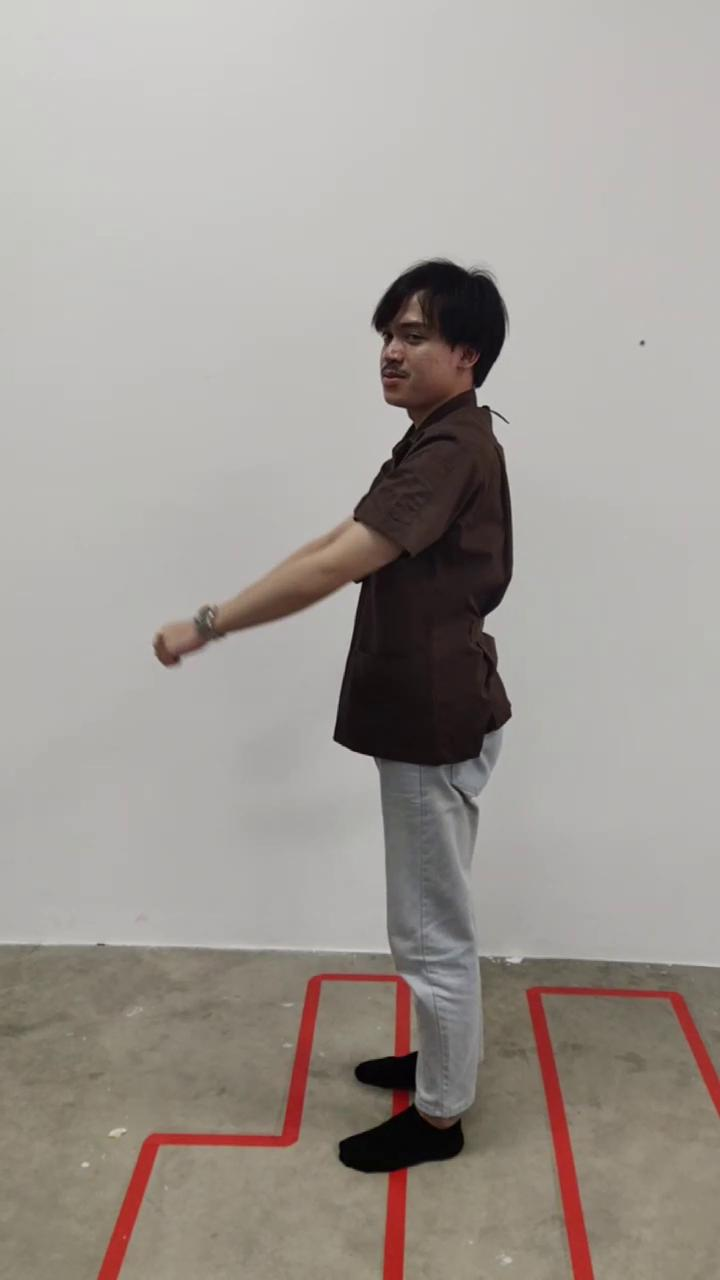squat up: (155, 260, 512, 1172)
